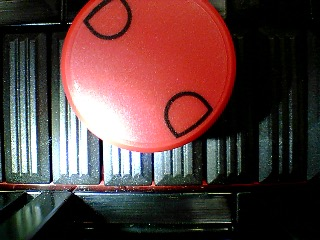MIPO2: (60, 1, 237, 153)
